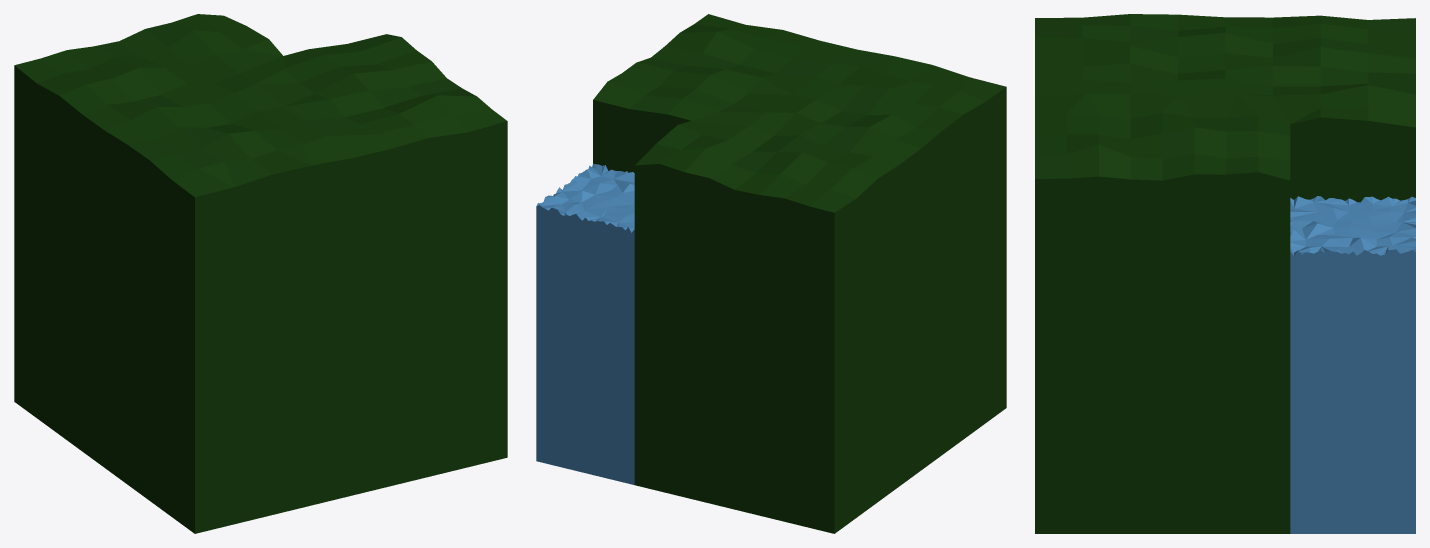
The model's file is TileTurn.fbx.
3 views of the same model, side by side, from view 1: azimuth 30°, elevation 25°; view 2: azimuth 150°, elevation 25°; view 3: azimuth 270°, elevation 25° (orthographic). The views are drawn at different scales.
Parts seen in each view (by area): view 1: Cube.016; view 2: Cube.016; view 3: Cube.016.
Part boxes in pixels (x1,y1,x2,y2): Cube.016: (14,14,507,533); Cube.016: (536,14,1006,533); Cube.016: (1035,14,1415,533).
Size of the model in its own units: 100 by 107 by 100.
